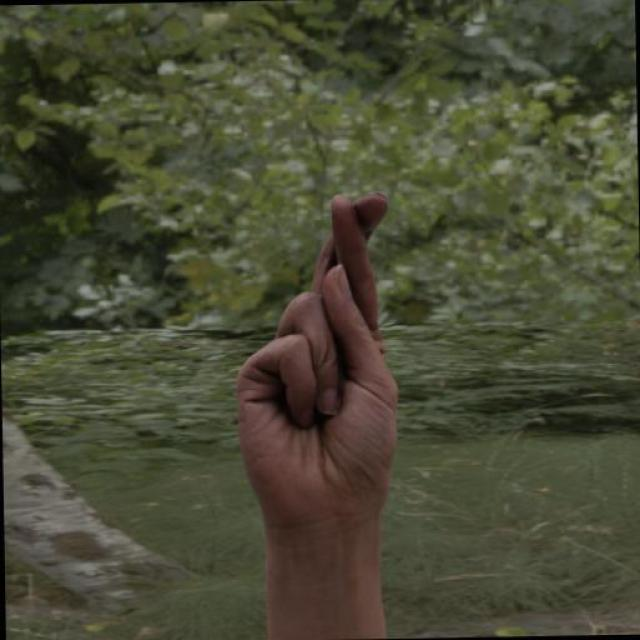R: (226, 187, 403, 536)
